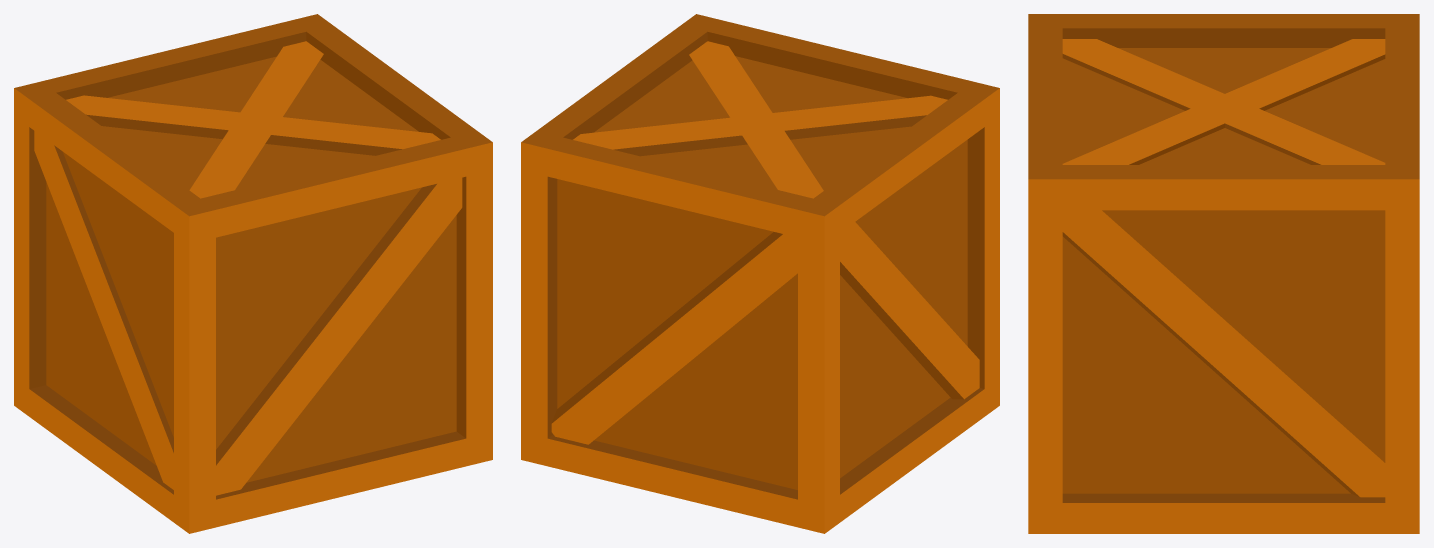
File: Caja.glb
3 renders of one model, left to right at view 1: azimuth 30°, elevation 25°; view 2: azimuth 150°, elevation 25°; view 3: azimuth 270°, elevation 25°, orthographic. The views are drawn at different scales.
Visible parts, largest first — view 1: Caja; view 2: Caja; view 3: Caja.
Part boxes in pixels (left/top/right/bottom): Caja: left=14, top=14, right=492, bottom=533; Caja: left=521, top=14, right=999, bottom=533; Caja: left=1028, top=14, right=1419, bottom=533.
Size of the model in its own units: 4.93 by 4.93 by 4.93.
